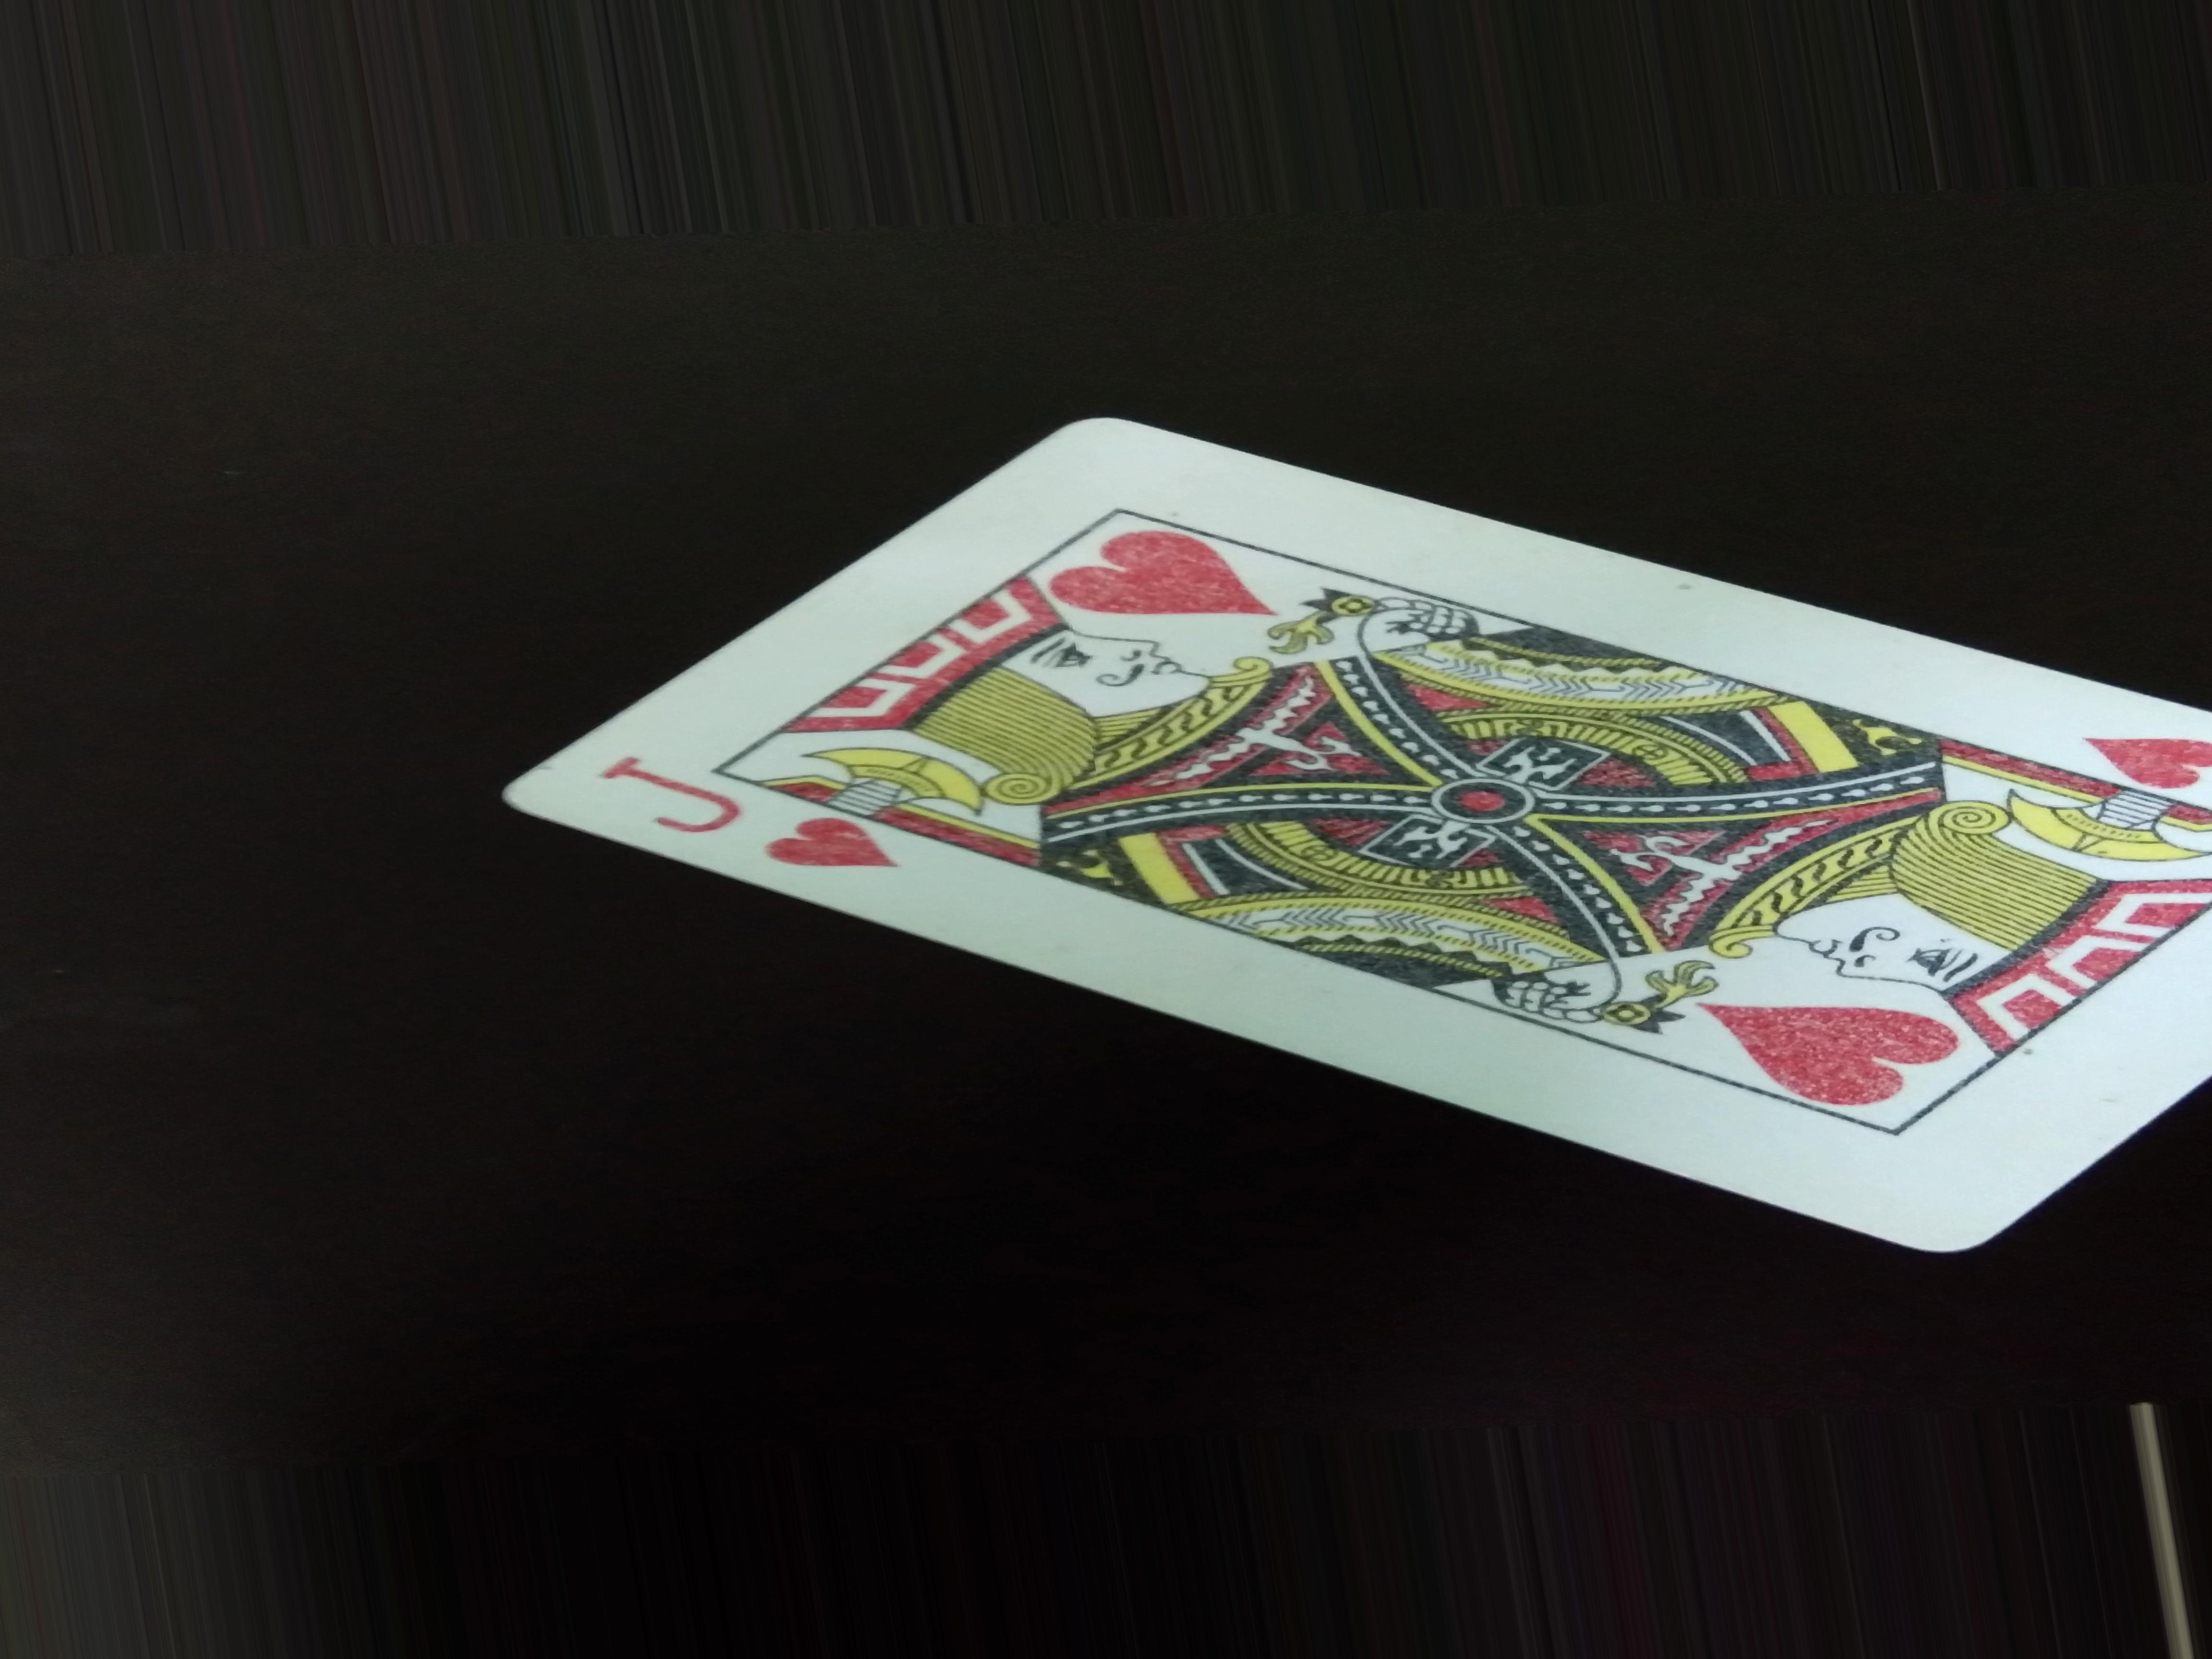JH: (585, 748, 900, 899)
